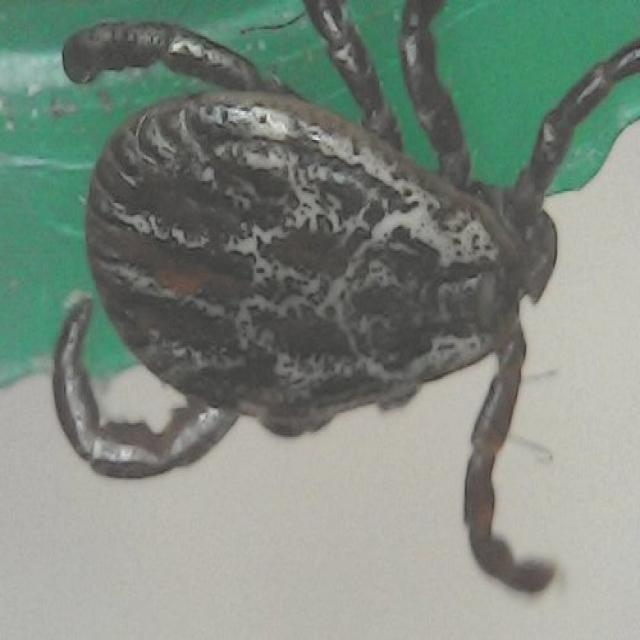Dermacentor Reticulatus-M: (52, 0, 640, 596)
